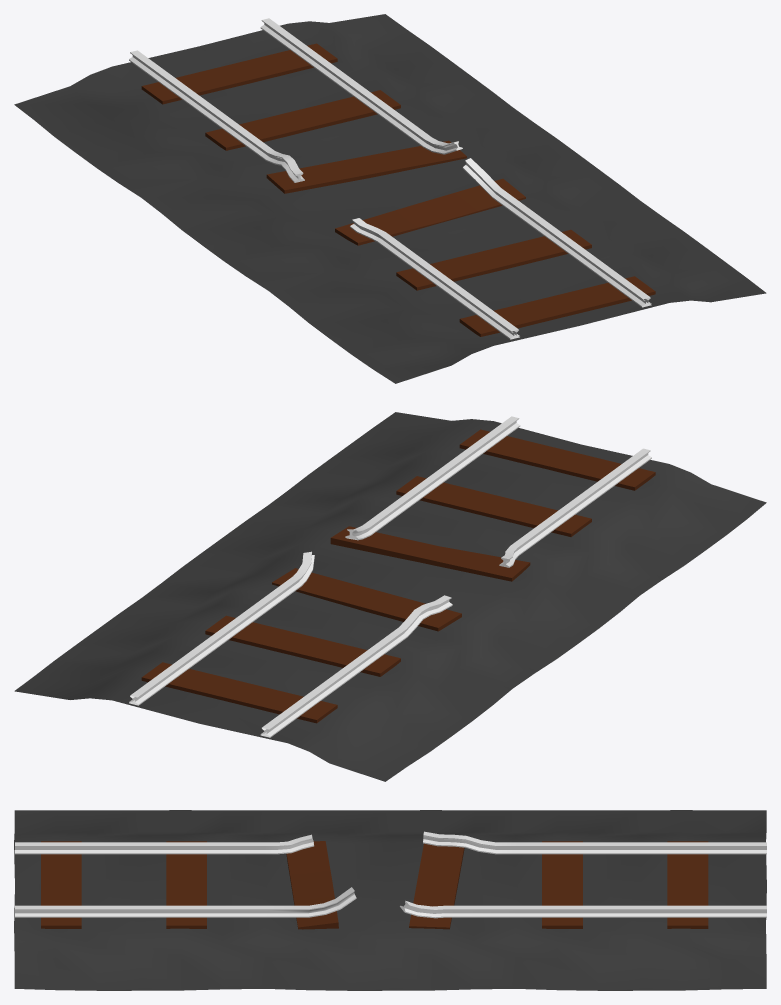
File: brokenRails-1.fbx
3 renders of one model, top to bottom at view 1: azimuth 30°, elevation 25°; view 2: azimuth 150°, elevation 25°; view 3: azimuth 270°, elevation 25°, orthographic.
Parts seen in each view (by area): view 1: Plane; view 2: Plane; view 3: Plane.
Part boxes in pixels (left/top/right/bottom): Plane: left=14, top=14, right=766, bottom=383; Plane: left=14, top=412, right=766, bottom=781; Plane: left=14, top=810, right=766, bottom=990.
Size of the model in its own units: 340 by 35.11 by 600.
